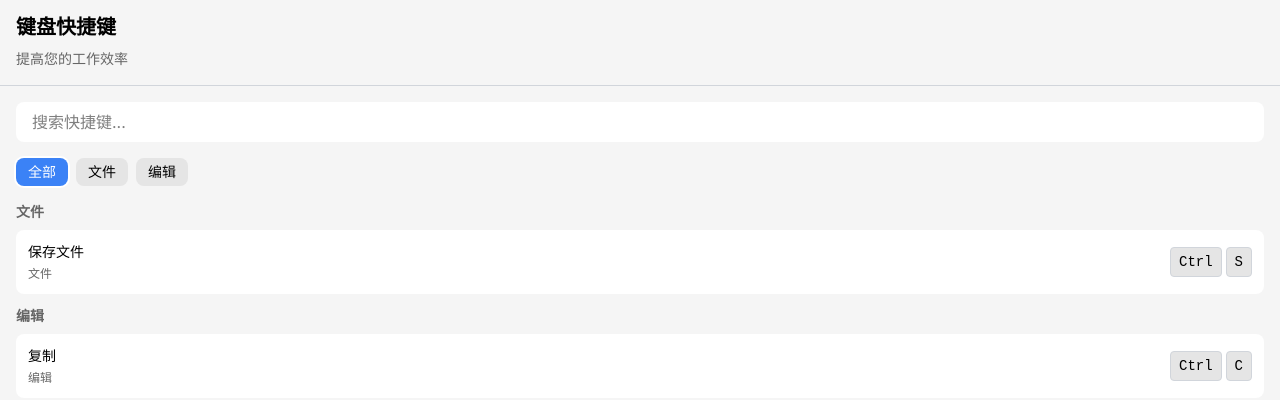
KeyboardShortcuts › 分类筛选 › 应该根据分类筛选
What coordinates should you click on to do the following:
click the button "文件"
I would click on:
 (102, 172)
Its box is left=76, top=158, right=128, bottom=186.
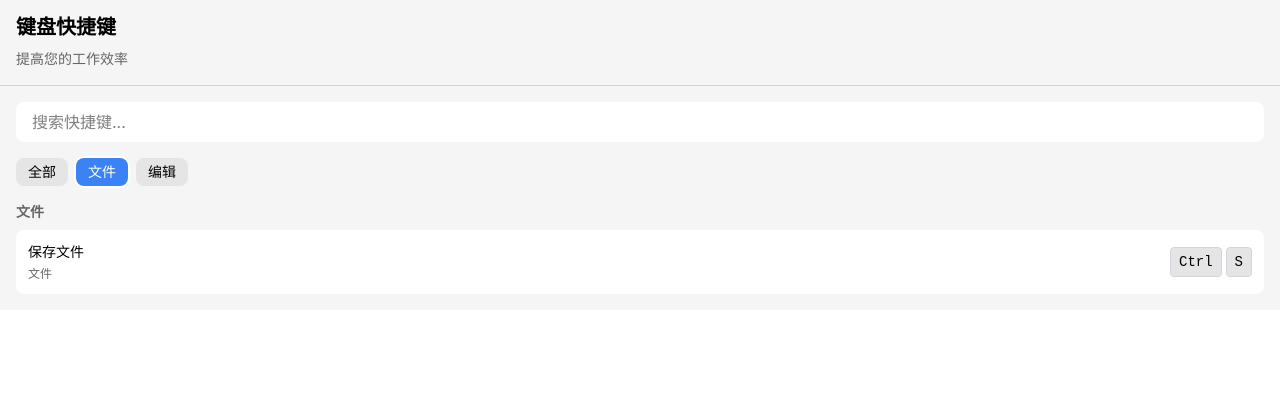
Expected: the text "保存文件" is shown, left=28, top=243, right=84, bottom=260
Expected: the text "复制" is gone
